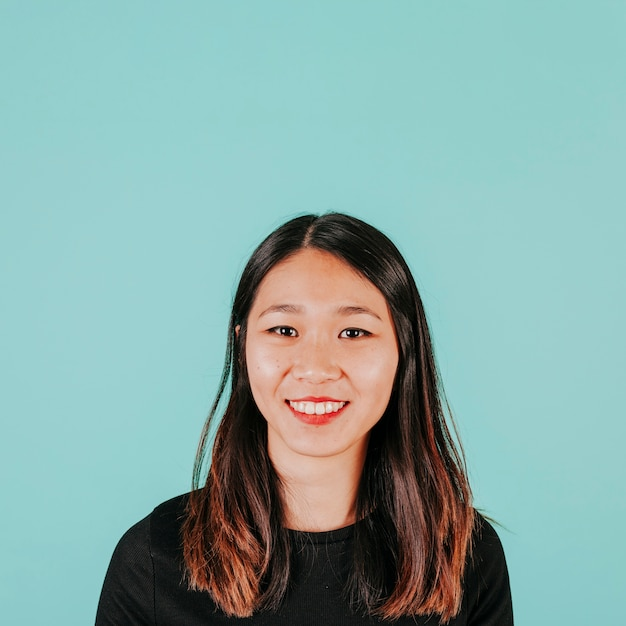teen: (219, 201, 440, 491)
